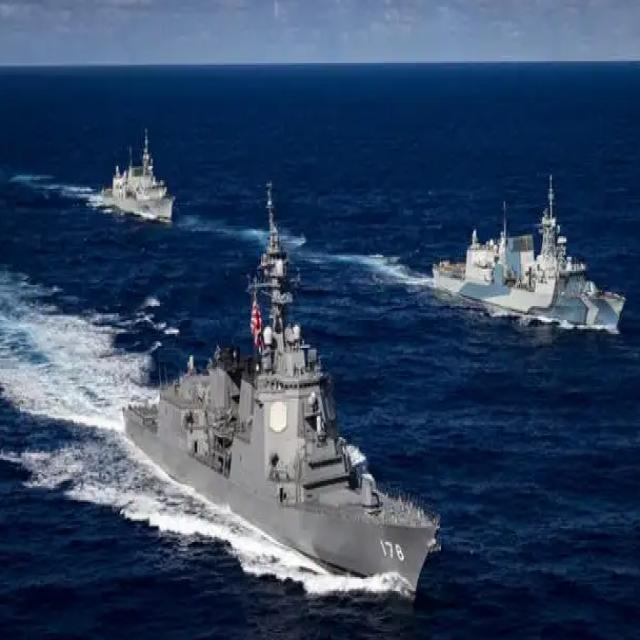navalvessels: (116, 234, 439, 594), (426, 170, 627, 342), (81, 117, 180, 230)
